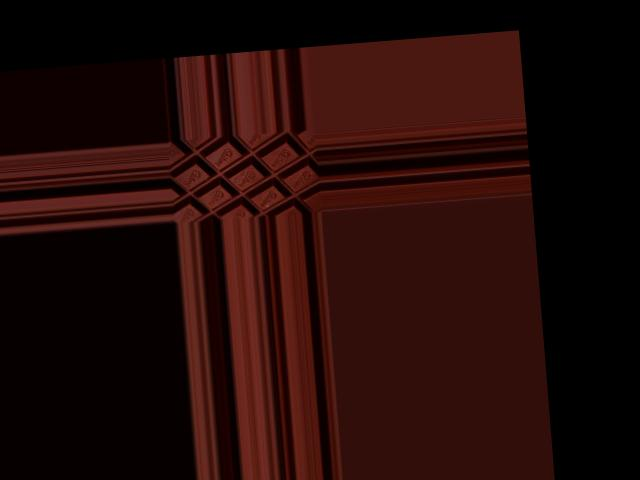chocolate: (171, 128, 321, 220)
